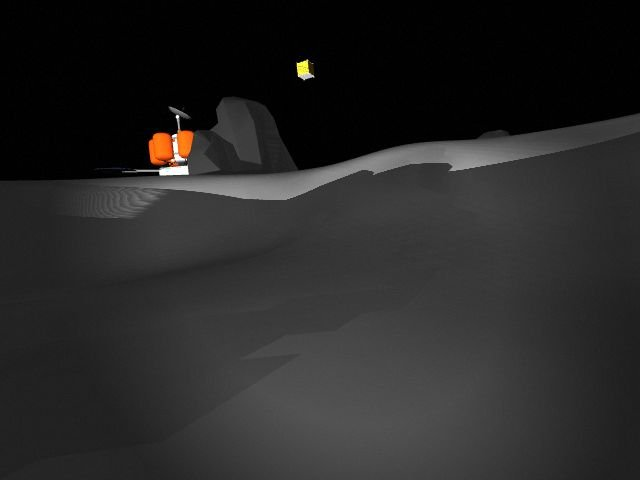cubesat: (293, 57, 324, 85)
